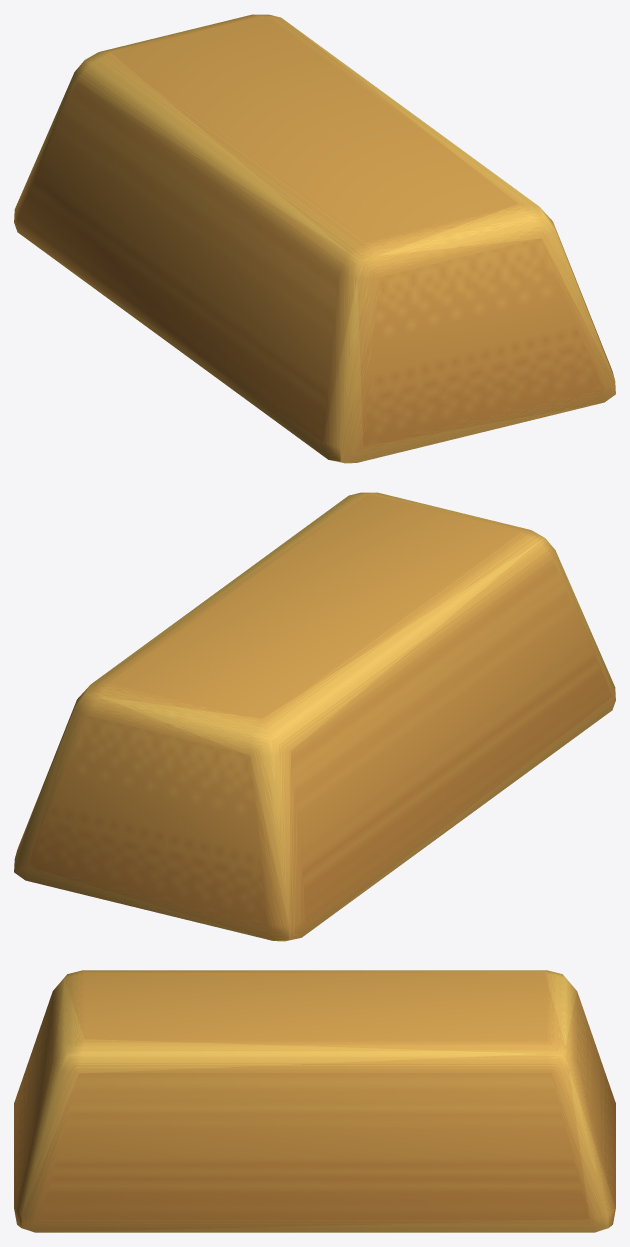
File: Gold_Bar.gltf
The picture shows the model from 3 angles, top to bottom: view 1: azimuth 30°, elevation 25°; view 2: azimuth 150°, elevation 25°; view 3: azimuth 270°, elevation 25°; orthographic projection. The views are drawn at different scales.
Parts seen in each view (by area): view 1: Gold_Bar; view 2: Gold_Bar; view 3: Gold_Bar.
Part boxes in pixels (x1,y1,x2,y2): Gold_Bar: (14, 14, 615, 463); Gold_Bar: (14, 492, 615, 941); Gold_Bar: (14, 970, 615, 1232).
Size of the model in its own units: 0.4 by 0.25 by 0.8.
1 material, 1 textured.
